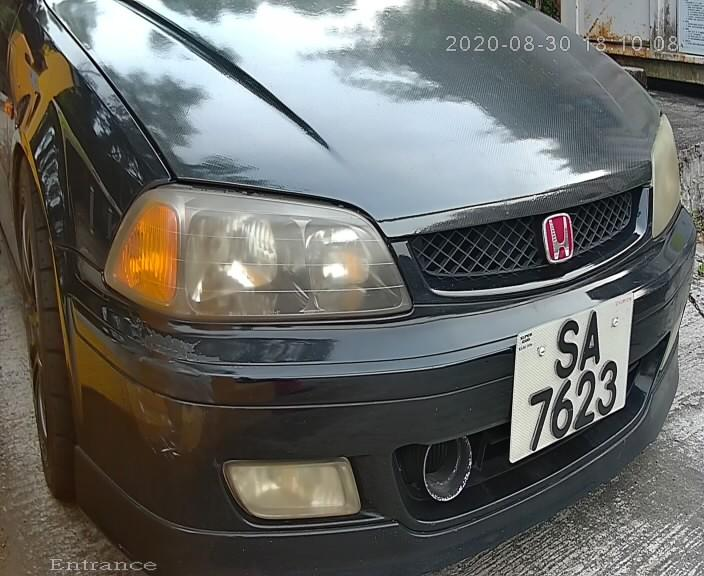License Plate: (503, 289, 632, 445)
